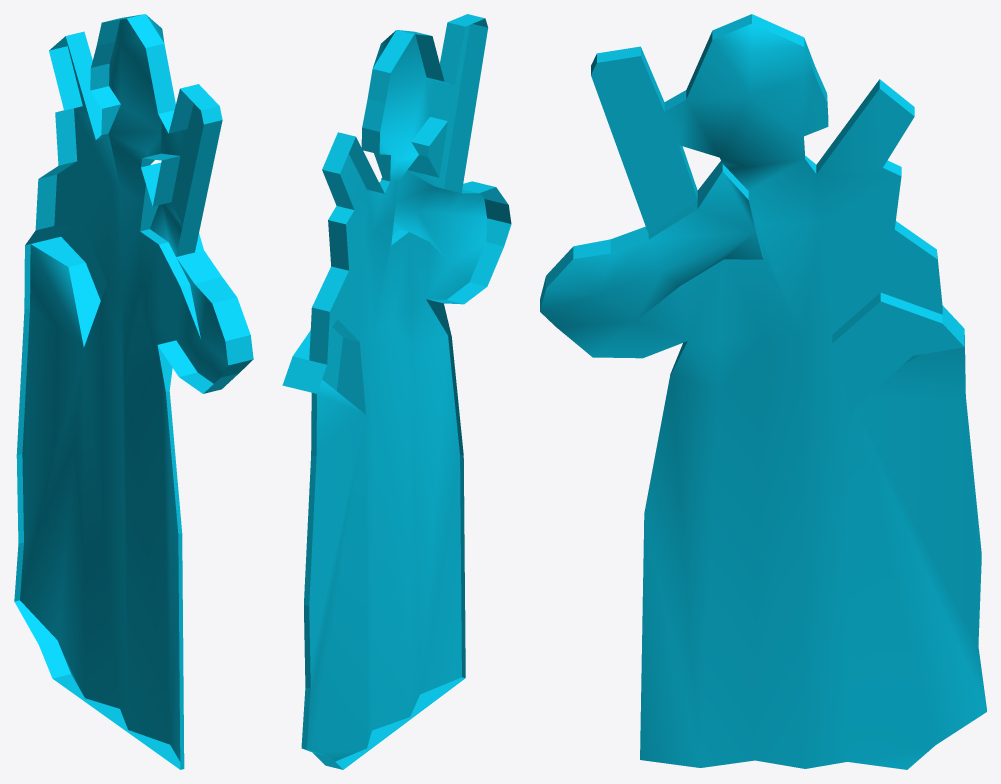
3 views of the same model, side by side, from view 1: azimuth 30°, elevation 25°; view 2: azimuth 150°, elevation 25°; view 3: azimuth 270°, elevation 25° (orthographic). The views are drawn at different scales.
Parts seen in each view (by area): view 1: Object077; view 2: Object077; view 3: Object077.
Boxes of the visible parts, x1,y1,x2,y2 form: Object077: (14, 14, 253, 769); Object077: (282, 14, 511, 769); Object077: (540, 14, 986, 769).
Bounding box in the file's own units: 23.63 × 393 × 213.
